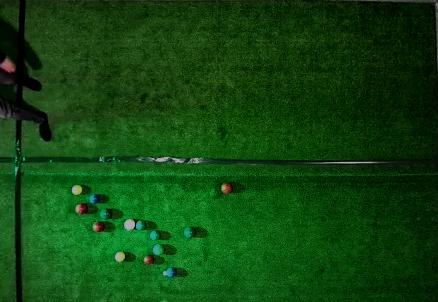blue: (89, 194, 100, 204), (167, 267, 177, 278)
green: (153, 244, 165, 255), (184, 227, 195, 238), (100, 209, 112, 219), (150, 230, 161, 240), (136, 220, 146, 230)
red: (124, 219, 135, 231), (92, 222, 105, 232), (75, 204, 88, 214), (221, 183, 232, 194), (144, 255, 154, 265)
vline: (1, 121, 23, 301), (1, 0, 26, 71), (433, 0, 437, 302), (1, 86, 22, 108)
white: (163, 271, 167, 276)
yellow: (115, 252, 125, 262), (72, 185, 82, 195)
